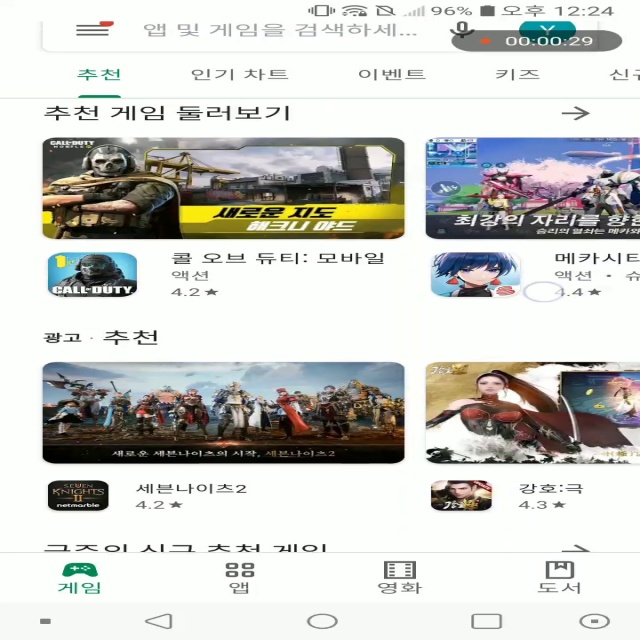Cursor: (521, 281, 566, 304)
